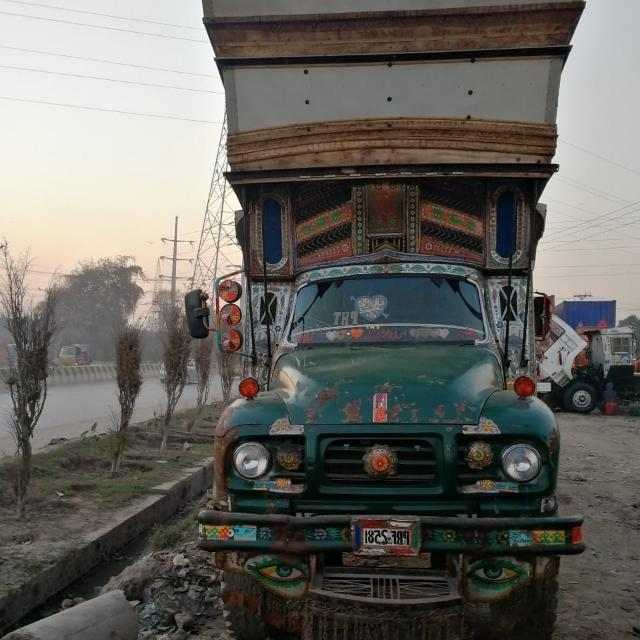plate: (362, 528, 412, 546)
